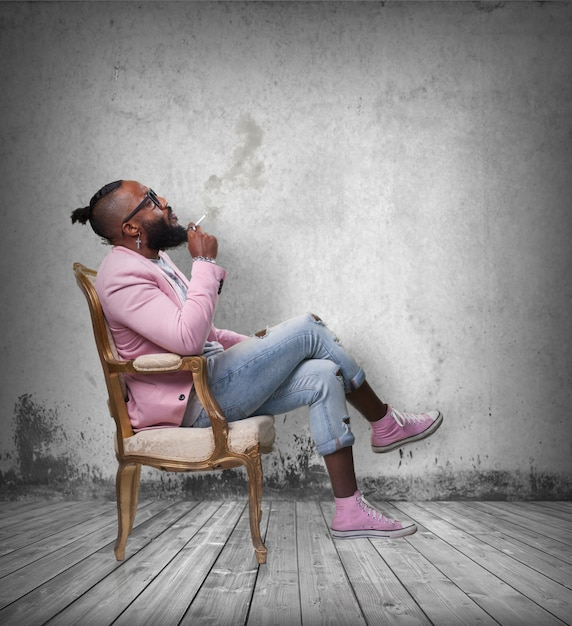cigarette: (192, 209, 209, 232)
